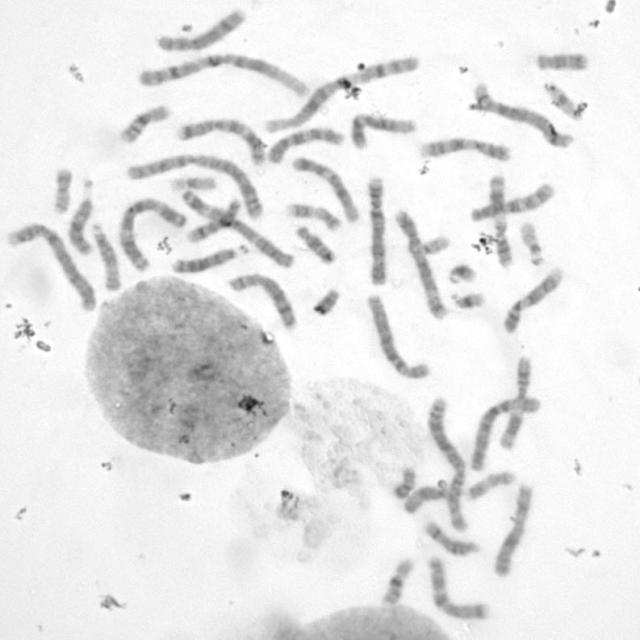A1: (260, 55, 420, 135), (137, 52, 313, 100)
A2: (125, 153, 266, 222), (426, 397, 475, 534)
A3: (180, 188, 297, 269), (117, 196, 189, 274)
B4: (4, 220, 99, 314), (366, 174, 390, 287)
B5: (474, 82, 576, 149), (393, 208, 451, 322)
C10: (467, 182, 557, 223), (267, 127, 347, 165)
C11: (497, 354, 534, 452), (488, 174, 515, 266)
C12: (290, 155, 360, 225), (350, 112, 418, 150)
C6: (468, 394, 542, 474), (367, 292, 432, 382)
C7: (177, 115, 267, 167), (426, 555, 491, 622)
C8: (226, 270, 300, 332), (156, 9, 248, 53)
C9: (500, 264, 565, 337), (417, 134, 515, 163)
D13: (67, 178, 98, 255), (172, 244, 251, 274)
D14: (186, 197, 241, 244), (424, 519, 483, 556)
D15: (89, 220, 122, 291), (403, 485, 451, 517)
E16: (119, 104, 172, 144), (379, 556, 415, 605)
E17: (466, 470, 518, 502), (286, 203, 342, 232)
E18: (293, 225, 338, 266), (534, 50, 591, 72)
F19: (409, 231, 451, 259), (168, 174, 217, 192)
F20: (52, 168, 74, 215), (392, 466, 418, 502)
G21: (448, 290, 489, 311), (446, 263, 479, 286)
G22: (544, 85, 588, 122), (518, 220, 546, 266)
X: (492, 482, 534, 578)
Y: (311, 286, 342, 316)
